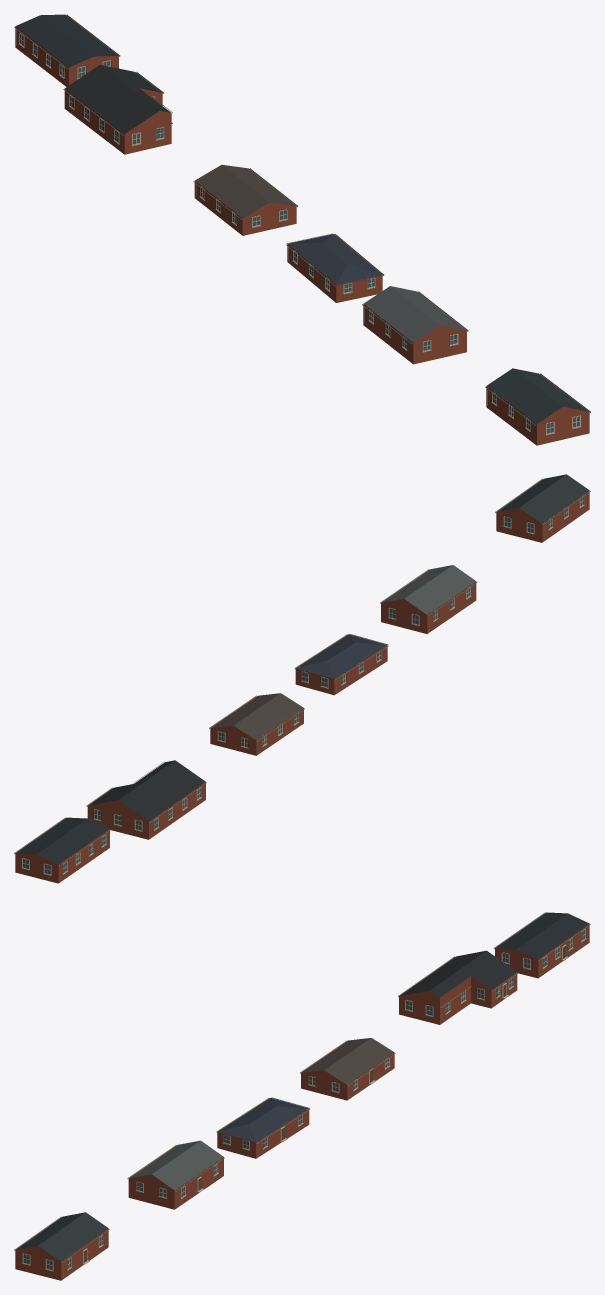
3 views of the same model, one above another, from view 1: azimuth 30°, elevation 25°; view 2: azimuth 150°, elevation 25°; view 3: azimuth 330°, elevation 25° (orthographic). The views are drawn at different scales.
Parts seen in each view (by area): view 1: 0_14_638294550_0; view 2: 0_14_638294550_0; view 3: 0_14_638294550_0.
Boxes of the visible parts, x1,y1,x2,y2 form: 0_14_638294550_0: (14,14,590,445); 0_14_638294550_0: (14,474,590,883); 0_14_638294550_0: (14,912,590,1280).
Bounding box in the file's own units: 15.77 × 8.89 × 169.
